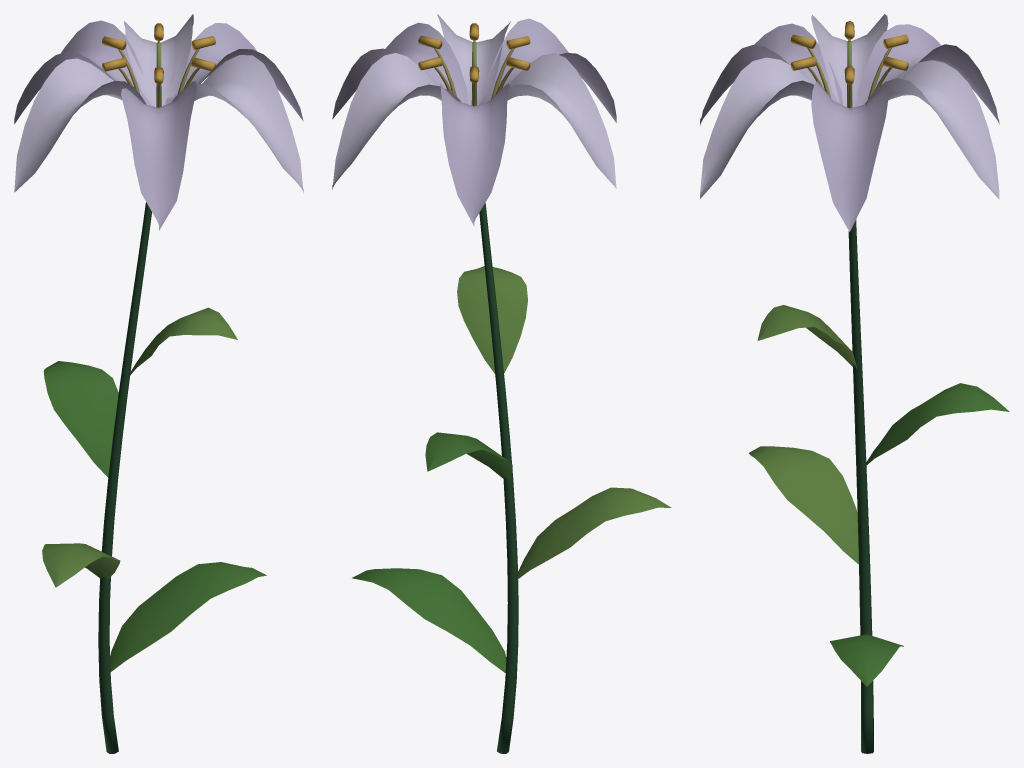
The model's file is meadow_star_lily.hi.glb.
3 renders of one model, left to right at view 1: azimuth 30°, elevation 25°; view 2: azimuth 150°, elevation 25°; view 3: azimuth 270°, elevation 25°, orthographic. The views are drawn at different scales.
Visible parts, largest first — view 1: body; view 2: body; view 3: body.
Part boxes in pixels (bbox=[...]): body: bbox=[14, 14, 303, 753]; body: bbox=[332, 14, 671, 753]; body: bbox=[700, 14, 1009, 753].
Bounding box in the file's own units: 0.238 × 0.5406 × 0.208.
